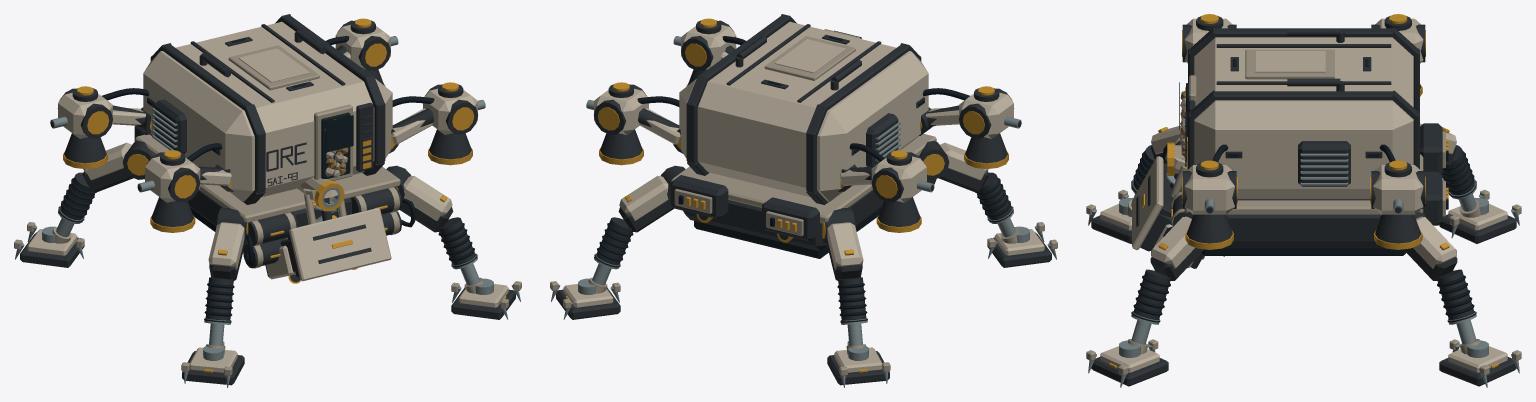
File: sai93_unit_d0_lod1.glb
The picture shows the model from 3 angles, left to right: view 1: azimuth 30°, elevation 25°; view 2: azimuth 150°, elevation 25°; view 3: azimuth 270°, elevation 25°; orthographic projection. The views are drawn at different scales.
Parts seen in each view (by area): view 1: BODY_ORE_TANK_SURFACE, MINING_FRAME, THRUSTER_FL_SURFACE, THRUSTER_RL_SURFACE, THRUSTER_FR_SURFACE, THRUSTER_RR_SURFACE, LEG_FL_UPPER, LEG_FR_UPPER, LEG_RL_UPPER, LEG_FL_FOOT_SURFACE, LEG_FR_FOOT_SURFACE, LEG_RL_FOOT_SURFACE (+10 smaller); view 2: BODY_ORE_TANK_SURFACE, THRUSTER_RL_SURFACE, THRUSTER_FL_SURFACE, THRUSTER_RR_SURFACE, THRUSTER_FR_SURFACE, LEG_RR_UPPER, LEG_RL_UPPER, LEG_FL_UPPER, LEG_RL_FOOT_SURFACE, LEG_RR_FOOT_SURFACE, LEG_FL_FOOT_SURFACE, LEG_RR_SHOCK_BARREL (+5 smaller); view 3: BODY_ORE_TANK_SURFACE, THRUSTER_FR_SURFACE, THRUSTER_RR_SURFACE, MINING_FRAME, LEG_FR_FOOT_SURFACE, LEG_RR_FOOT_SURFACE, LEG_FR_UPPER, LEG_RR_UPPER, LEG_RL_FOOT_SURFACE, LEG_FR_SHOCK_BARREL, LEG_RR_SHOCK_BARREL, LEG_RL_SHOCK_BARREL (+12 smaller).
Part boxes in pixels (x1=…): BODY_ORE_TANK_SURFACE: x1=134, y1=14, x2=415, y2=268; MINING_FRAME: x1=265, y1=208, x2=391, y2=281; THRUSTER_FL_SURFACE: x1=137, y1=150, x2=200, y2=232; THRUSTER_RL_SURFACE: x1=50, y1=86, x2=112, y2=169; THRUSTER_FR_SURFACE: x1=423, y1=82, x2=485, y2=165; THRUSTER_RR_SURFACE: x1=335, y1=18, x2=398, y2=86; LEG_FL_UPPER: x1=208, y1=207, x2=248, y2=280; LEG_FR_UPPER: x1=386, y1=165, x2=453, y2=232; LEG_RL_UPPER: x1=82, y1=141, x2=152, y2=192; LEG_FL_FOOT_SURFACE: x1=182, y1=346, x2=244, y2=385; LEG_FR_FOOT_SURFACE: x1=451, y1=278, x2=515, y2=319; LEG_RL_FOOT_SURFACE: x1=20, y1=226, x2=84, y2=267; BODY_ORE_TANK_SURFACE: x1=670, y1=14, x2=936, y2=258; THRUSTER_RL_SURFACE: x1=871, y1=150, x2=934, y2=232; THRUSTER_FL_SURFACE: x1=959, y1=86, x2=1021, y2=169; THRUSTER_RR_SURFACE: x1=586, y1=82, x2=648, y2=165; THRUSTER_FR_SURFACE: x1=673, y1=18, x2=736, y2=86; LEG_RR_UPPER: x1=618, y1=165, x2=685, y2=232; LEG_RL_UPPER: x1=822, y1=207, x2=863, y2=280; LEG_FL_UPPER: x1=919, y1=141, x2=989, y2=192; LEG_RL_FOOT_SURFACE: x1=827, y1=346, x2=889, y2=385; LEG_RR_FOOT_SURFACE: x1=556, y1=278, x2=620, y2=319; LEG_FL_FOOT_SURFACE: x1=987, y1=226, x2=1051, y2=267; LEG_RR_SHOCK_BARREL: x1=594, y1=217, x2=633, y2=269; BODY_ORE_TANK_SURFACE: x1=1162, y1=27, x2=1448, y2=255; THRUSTER_FR_SURFACE: x1=1182, y1=160, x2=1237, y2=249; THRUSTER_RR_SURFACE: x1=1370, y1=160, x2=1425, y2=249; MINING_FRAME: x1=1132, y1=156, x2=1203, y2=268; LEG_FR_FOOT_SURFACE: x1=1091, y1=340, x2=1168, y2=386; LEG_RR_FOOT_SURFACE: x1=1439, y1=340, x2=1516, y2=386; LEG_FR_UPPER: x1=1150, y1=211, x2=1228, y2=280; LEG_RR_UPPER: x1=1379, y1=211, x2=1457, y2=280; LEG_RL_FOOT_SURFACE: x1=1439, y1=198, x2=1516, y2=243; LEG_FR_SHOCK_BARREL: x1=1131, y1=269, x2=1171, y2=324; LEG_RR_SHOCK_BARREL: x1=1436, y1=269, x2=1476, y2=324; LEG_RL_SHOCK_BARREL: x1=1441, y1=145, x2=1476, y2=199.
Bounding box in the file's own units: 5.66 × 3.57 × 5.73.
